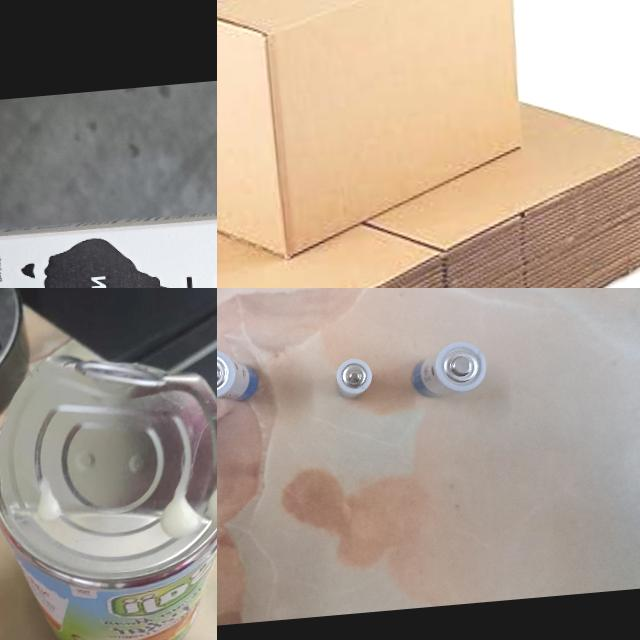aba de lata: (65, 349, 167, 394)
bateria: (408, 339, 488, 399), (217, 344, 259, 405), (334, 355, 374, 399)
caixinha: (0, 184, 217, 288)
lata: (0, 336, 217, 640)
papelão: (217, 82, 640, 288), (217, 0, 536, 271)
